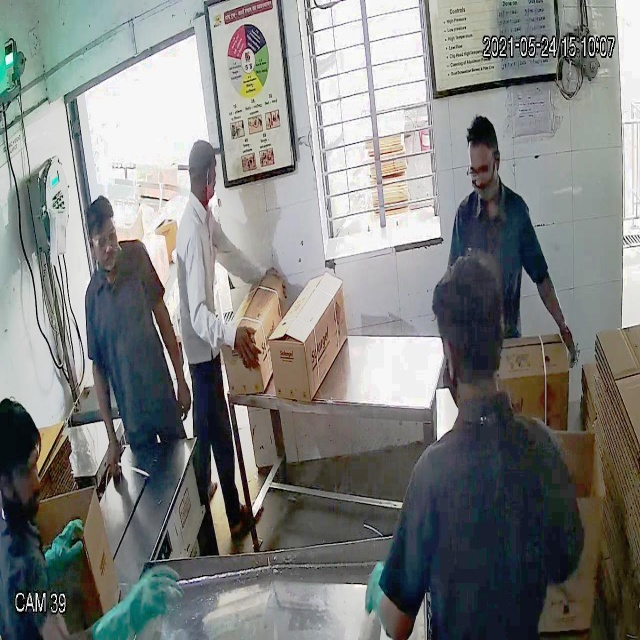Gafas: (86, 223, 121, 252)
